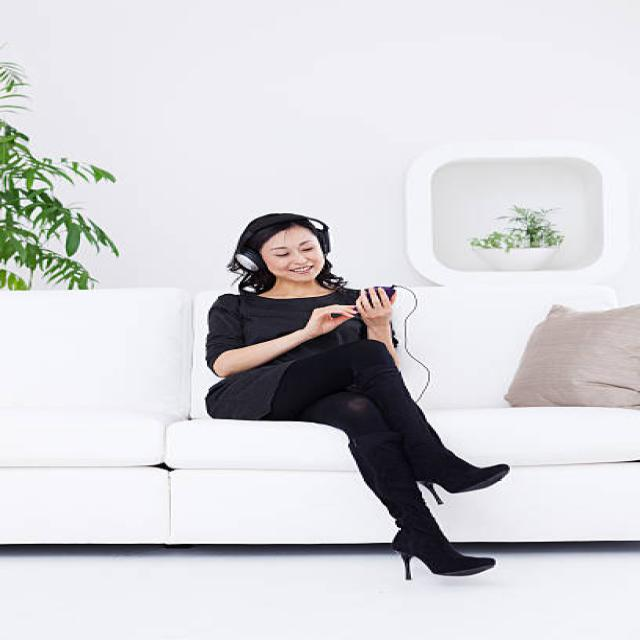Headphone: (234, 214, 333, 272)
